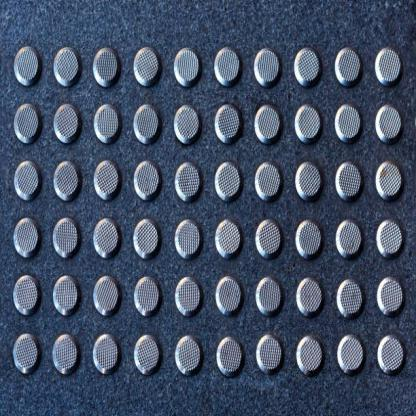podotacti: (9, 39, 406, 379)
